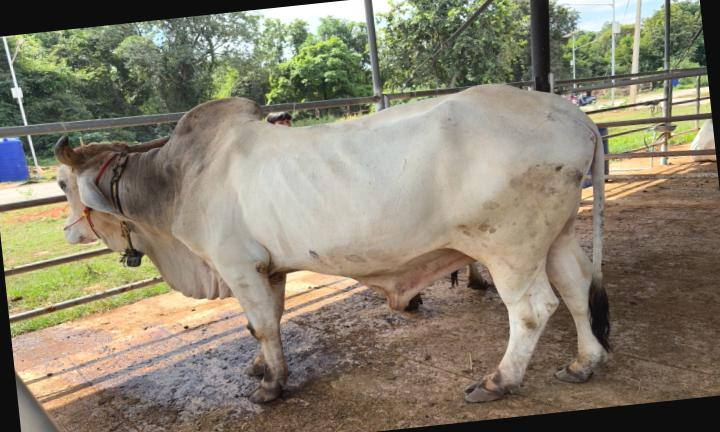Brahman: (55, 84, 610, 402)
